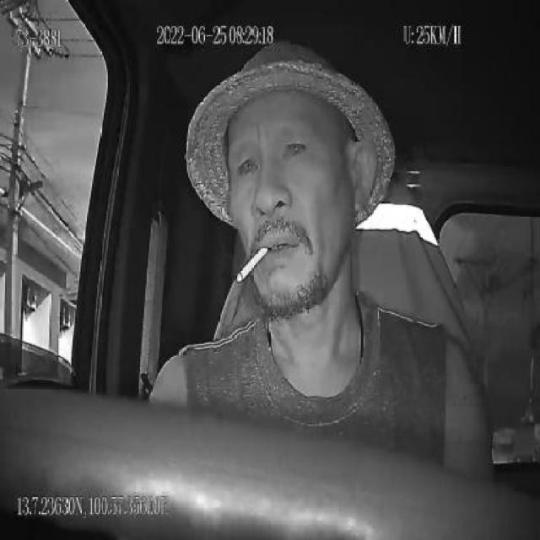smoking: (235, 242, 271, 289)
